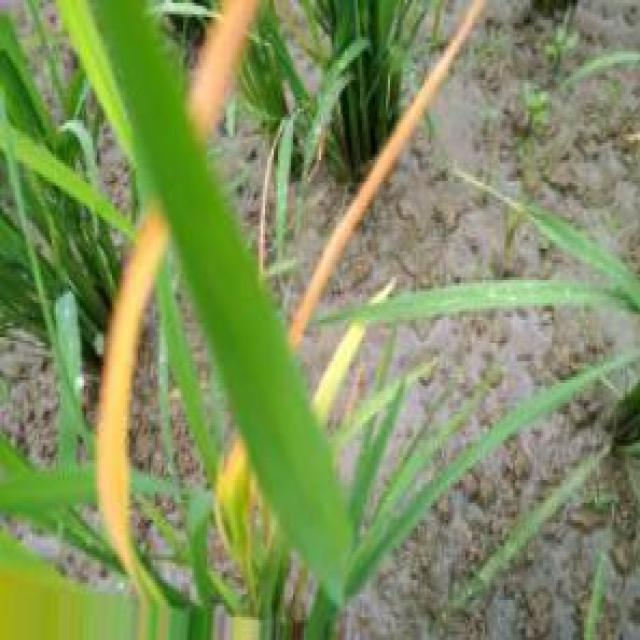Rice Tungro: (289, 0, 482, 347), (96, 210, 169, 601), (188, 0, 259, 138), (311, 320, 366, 426), (369, 277, 396, 305)
